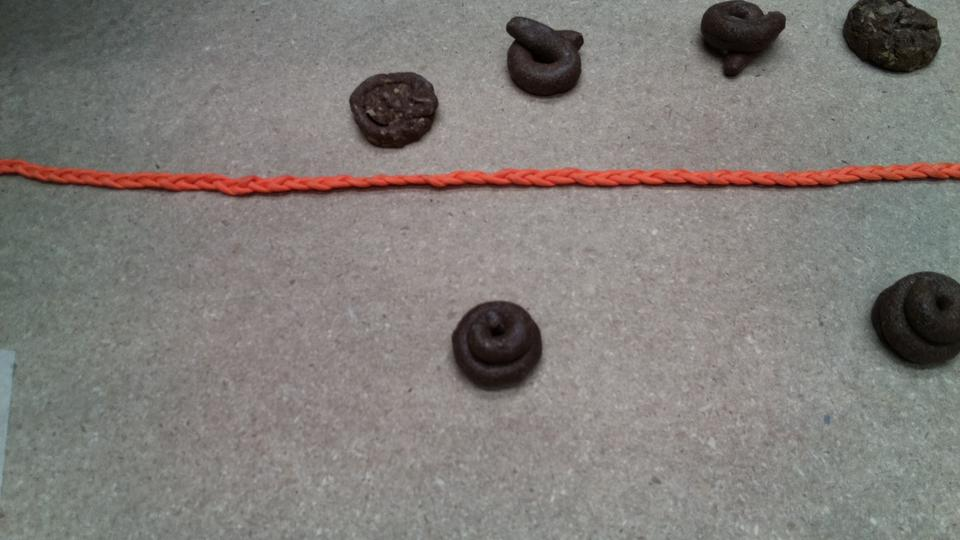poop: (441, 294, 553, 396), (863, 266, 960, 374), (344, 61, 438, 153), (498, 13, 590, 103), (695, 1, 793, 83), (847, 1, 945, 83)
rope: (2, 142, 960, 214)
